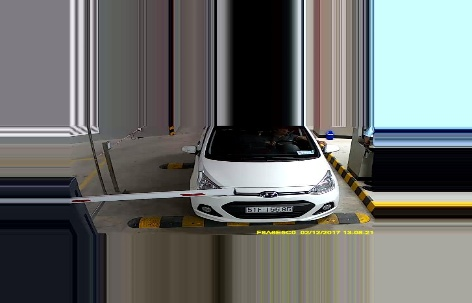plate: (244, 200, 295, 213)
